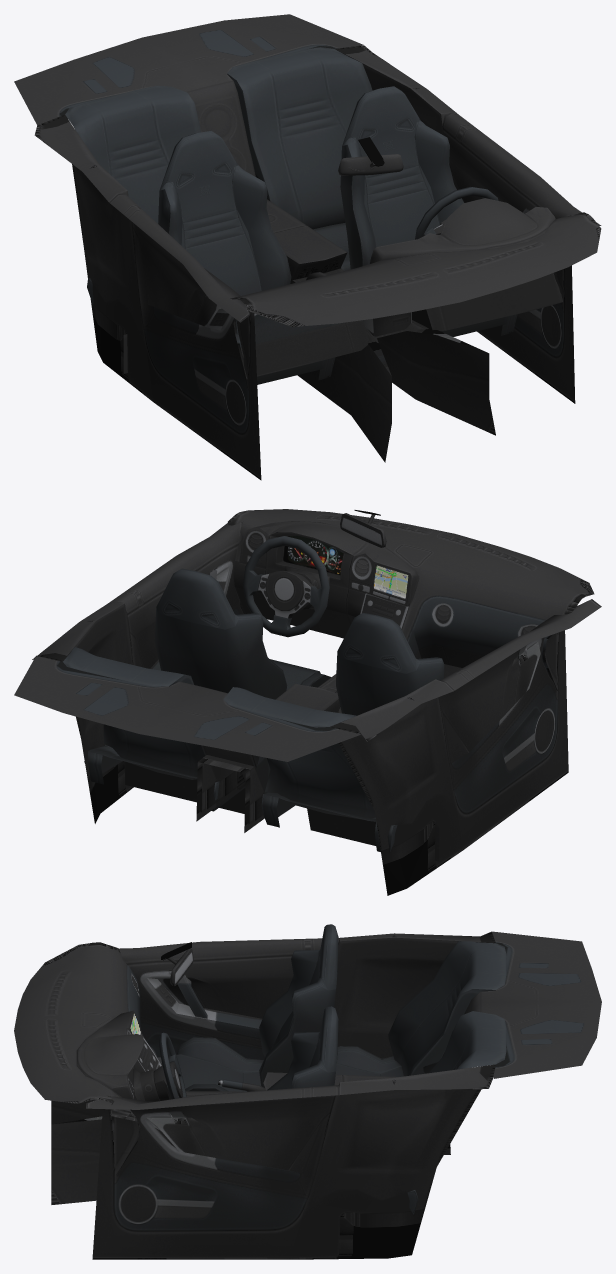
The model's file is Car_07_Interior.FBX.
The picture shows the model from 3 angles, top to bottom: view 1: azimuth 30°, elevation 25°; view 2: azimuth 150°, elevation 25°; view 3: azimuth 270°, elevation 25°; orthographic projection. The views are drawn at different scales.
Parts seen in each view (by area): view 1: Car_07_Interior_D; view 2: Car_07_Interior_D; view 3: Car_07_Interior_D.
Boxes of the visible parts, bbox=[...] form: Car_07_Interior_D: bbox=[14, 14, 601, 480]; Car_07_Interior_D: bbox=[14, 509, 601, 895]; Car_07_Interior_D: bbox=[14, 924, 601, 1259].
Bounding box in the file's own units: 1.52 × 2.3 × 1.05.
